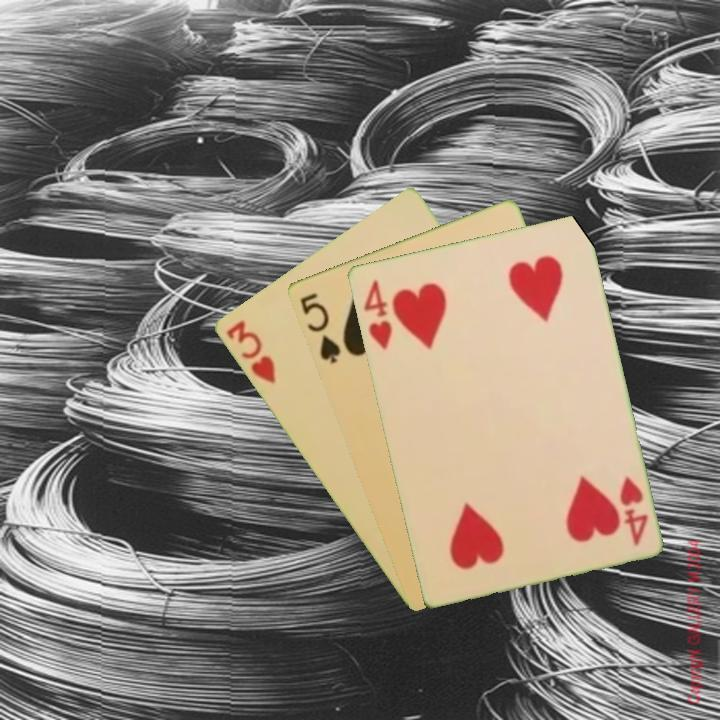3h: (222, 316, 279, 386)
4h: (359, 275, 395, 352), (615, 472, 651, 549)
5s: (295, 289, 343, 367)
